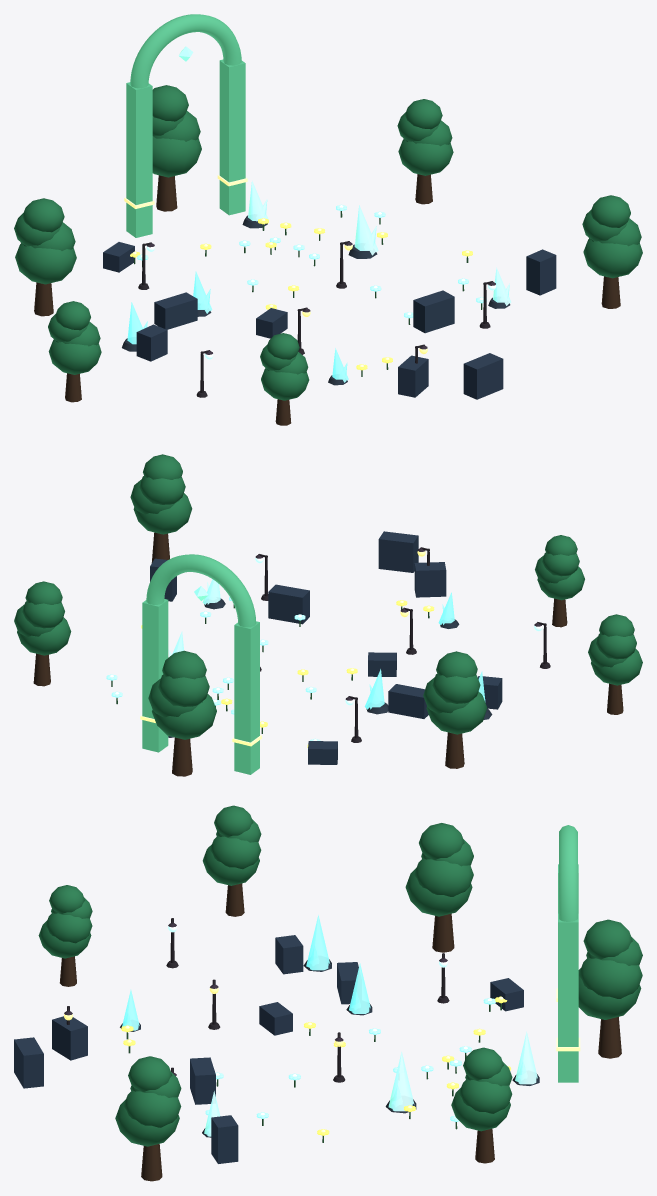
Rendered from scene-props.glb.
3 renders of one model, top to bottom at view 1: azimuth 30°, elevation 25°; view 2: azimuth 150°, elevation 25°; view 3: azimuth 270°, elevation 25°, orthographic. The views are drawn at different scales.
Bounding box in the file's own units: 33.02 × 11.85 × 30.2.
